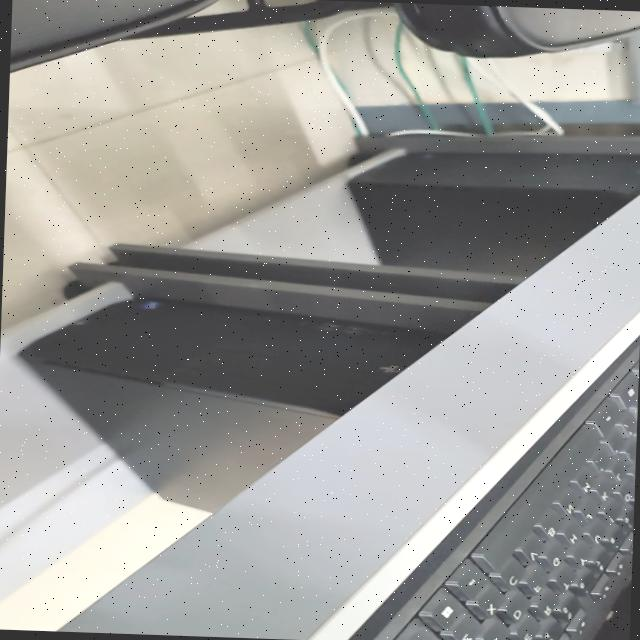Chair: (8, 0, 217, 73), (392, 2, 640, 58)
Cpu: (23, 301, 422, 511), (347, 152, 640, 277)
Keyboard: (348, 335, 640, 640)
